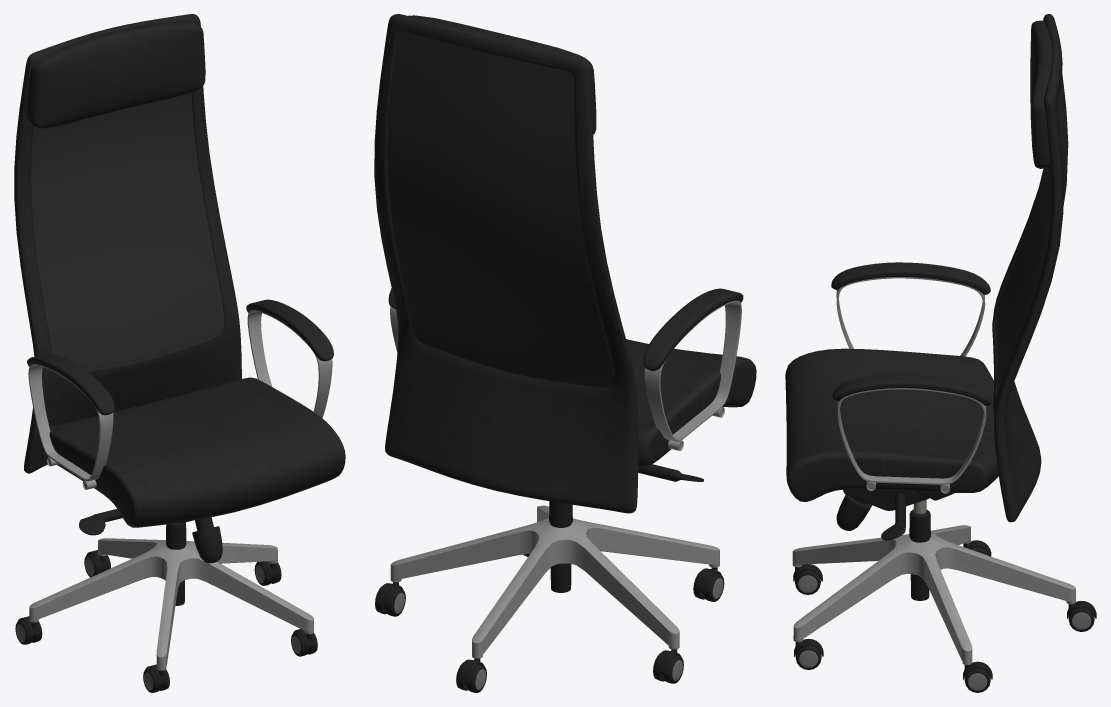
The model's file is Office_Chair.glb.
3 views of the same model, side by side, from view 1: azimuth 30°, elevation 25°; view 2: azimuth 150°, elevation 25°; view 3: azimuth 270°, elevation 25° (orthographic). The views are drawn at different scales.
Parts seen in each view (by area): view 1: ikea_markus.001; view 2: ikea_markus.001; view 3: ikea_markus.001.
Part boxes in pixels (left/top/right/bottom): ikea_markus.001: left=14, top=14, right=345, bottom=692; ikea_markus.001: left=374, top=14, right=756, bottom=692; ikea_markus.001: left=785, top=14, right=1096, bottom=692.
Bounding box in the file's own units: 0.6315 × 1.31 × 0.6399.
Materials: 1 (1 with a texture image).
